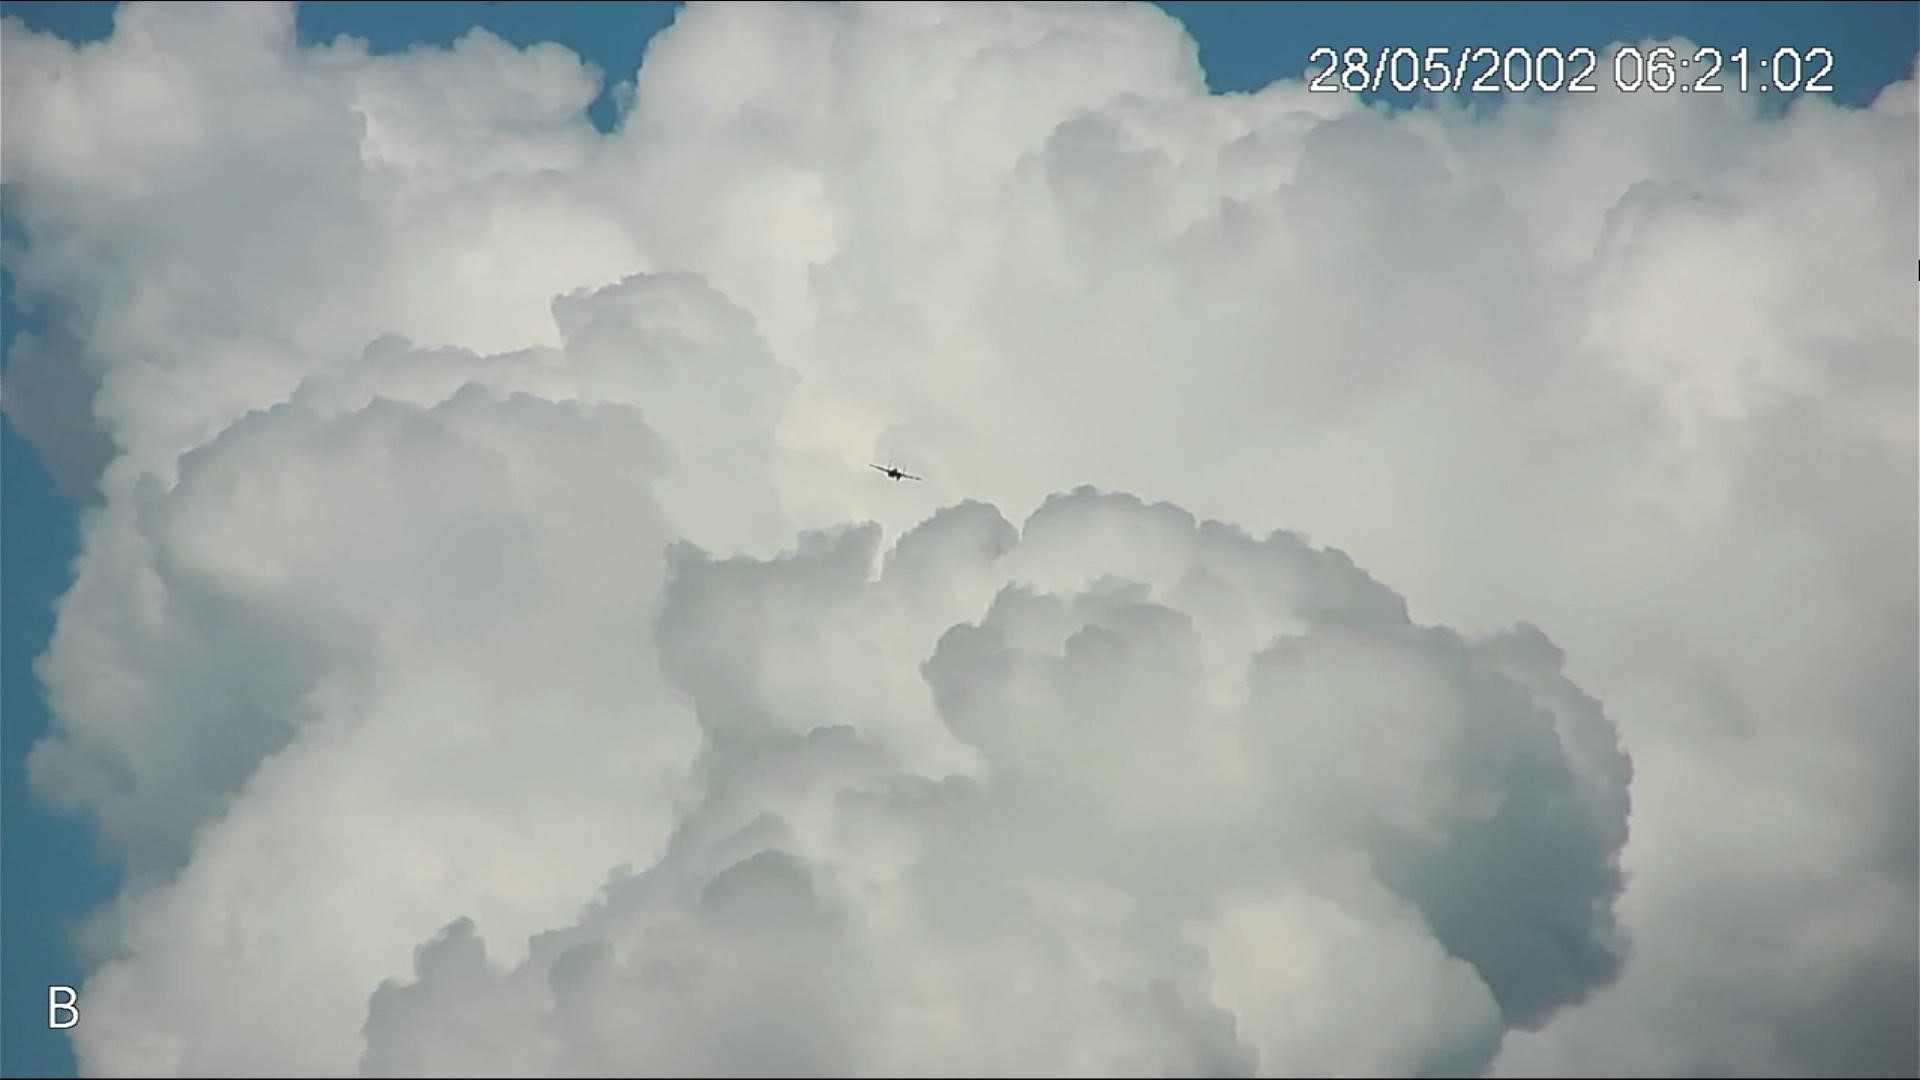SU_30: (866, 458, 924, 485)
